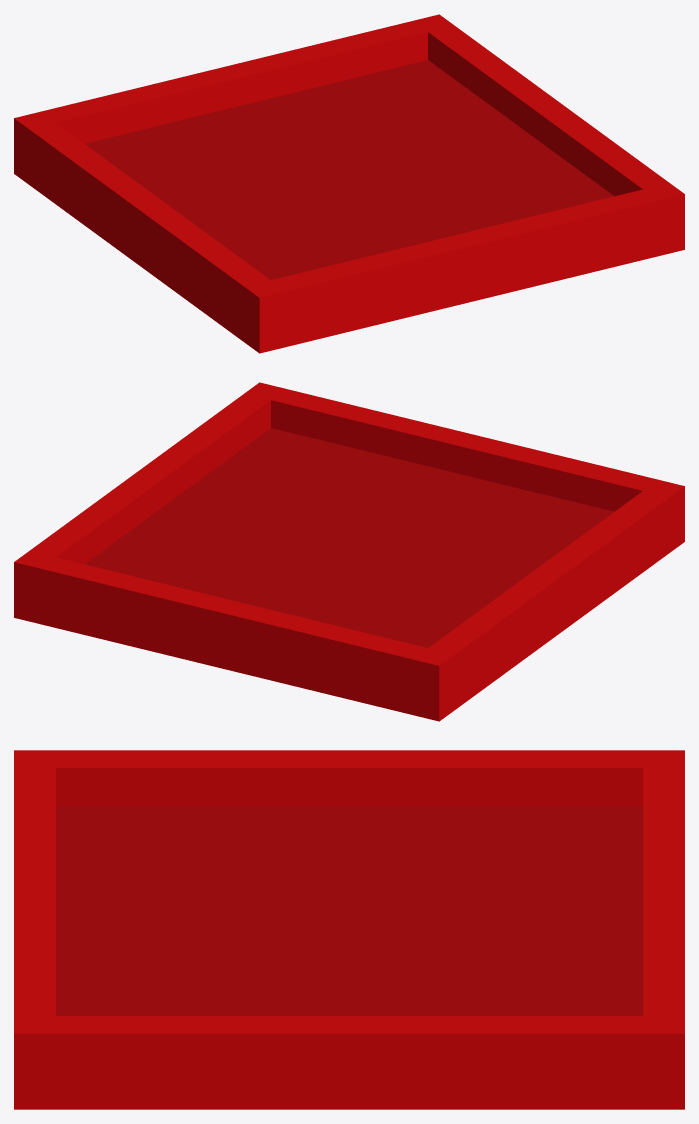
File: DropSpot3.dae
3 views of the same model, one above another, from view 1: azimuth 30°, elevation 25°; view 2: azimuth 150°, elevation 25°; view 3: azimuth 270°, elevation 25° (orthographic). The views are drawn at different scales.
Parts seen in each view (by area): view 1: SketchUp (×4); view 2: SketchUp (×4); view 3: SketchUp (×4).
Boxes of the visible parts, x1,y1,x2,y2 form: SketchUp (×4): (14,14,684,353); SketchUp (×4): (14,382,684,721); SketchUp (×4): (14,750,684,1109).
Size of the model in its own units: 1 by 1 by 0.125.
